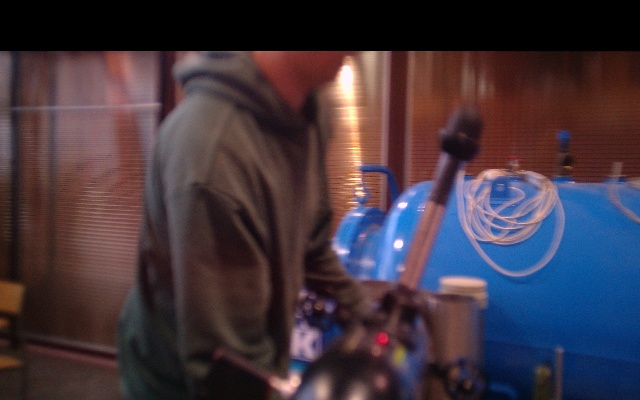black: (399, 196, 448, 291)
